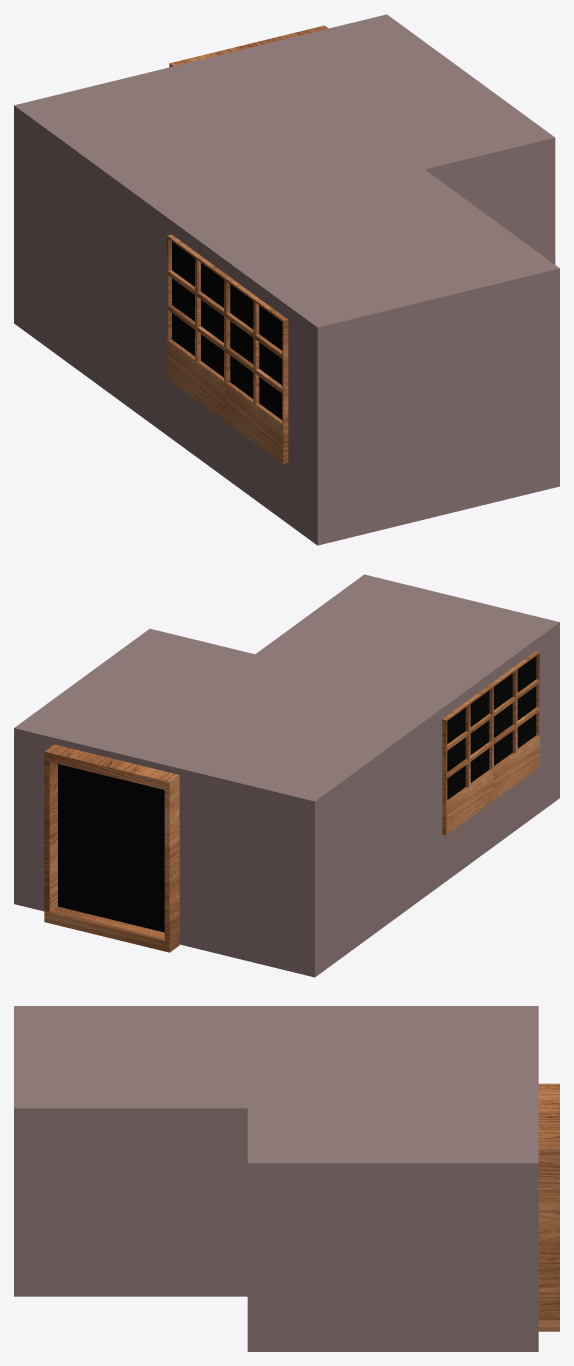
The picture shows the model from 3 angles, top to bottom: view 1: azimuth 30°, elevation 25°; view 2: azimuth 150°, elevation 25°; view 3: azimuth 270°, elevation 25°; orthographic projection. The views are drawn at different scales.
Visible parts, largest first — view 1: Object_18, Object_14, Object_13, Object_16, Object_10, Object_7, Object_1, Object_4, Object_11, Object_8, Object_9, Object_12; view 2: Object_18, Object_15, Object_16, Object_13, Object_14, Object_17; view 3: Object_18, Object_16.
Boxes of the visible parts, x1,y1,x2,y2 form: Object_18: (14, 14, 559, 545); Object_14: (225, 277, 288, 463); Object_13: (167, 234, 229, 420); Object_16: (169, 25, 328, 67); Object_10: (259, 305, 282, 350); Object_7: (230, 284, 253, 329); Object_1: (172, 241, 194, 286); Object_4: (201, 263, 223, 307); Object_11: (259, 342, 282, 385); Object_8: (230, 321, 253, 363); Object_9: (230, 356, 253, 398); Object_12: (259, 377, 282, 419); Object_18: (14, 574, 559, 977); Object_15: (58, 764, 164, 932); Object_16: (44, 744, 179, 941); Object_13: (442, 685, 493, 835); Object_14: (489, 650, 539, 800); Object_17: (44, 906, 179, 952); Object_18: (14, 1006, 538, 1351); Object_16: (538, 1083, 559, 1320).
Bounding box in the file's own units: 543 × 301 × 787.
3 materials, 1 textured.
